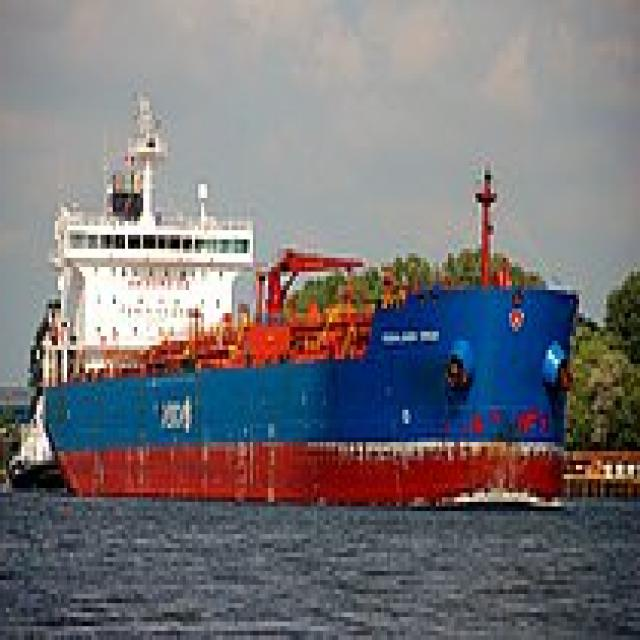Tanker: (40, 69, 588, 511)
